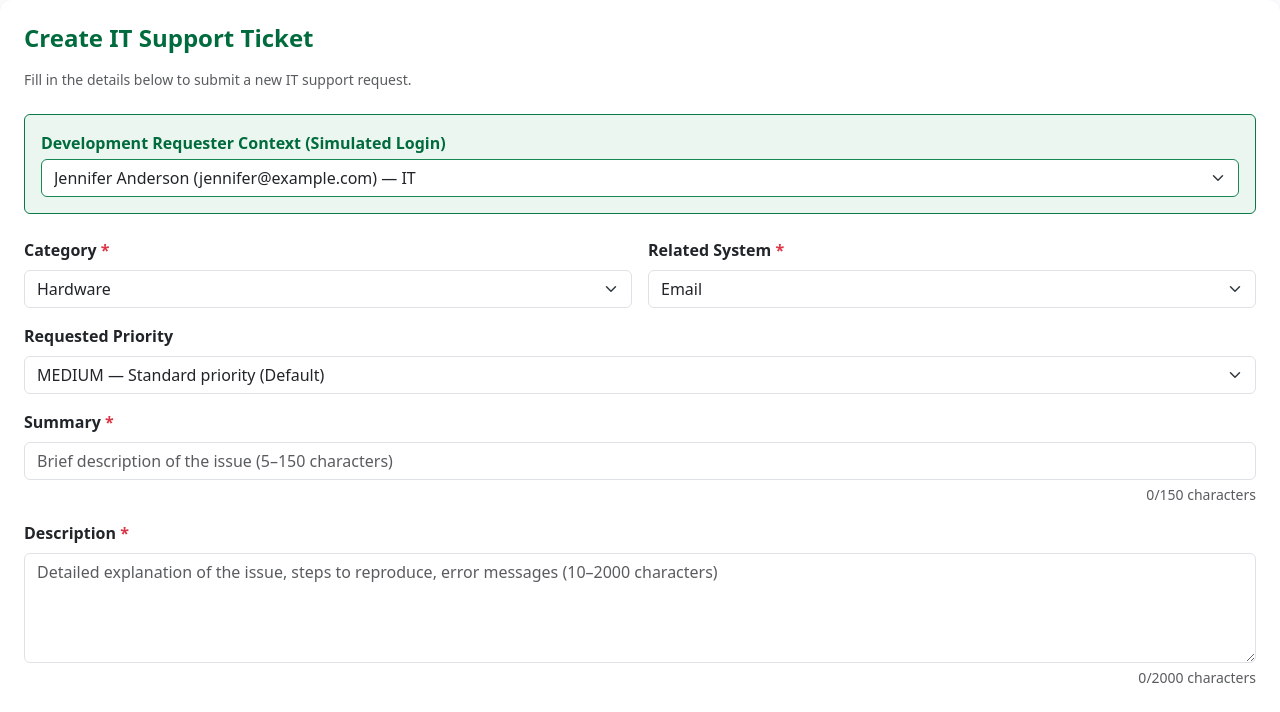
Test: CreateTicket Component › validates field length constraints before submitting
Expected: the heading "Create IT Support Ticket" is shown, [24,21,314,54]
In the field labelled "Summary *": (640,461) [24,442,1256,480], type "Abc"
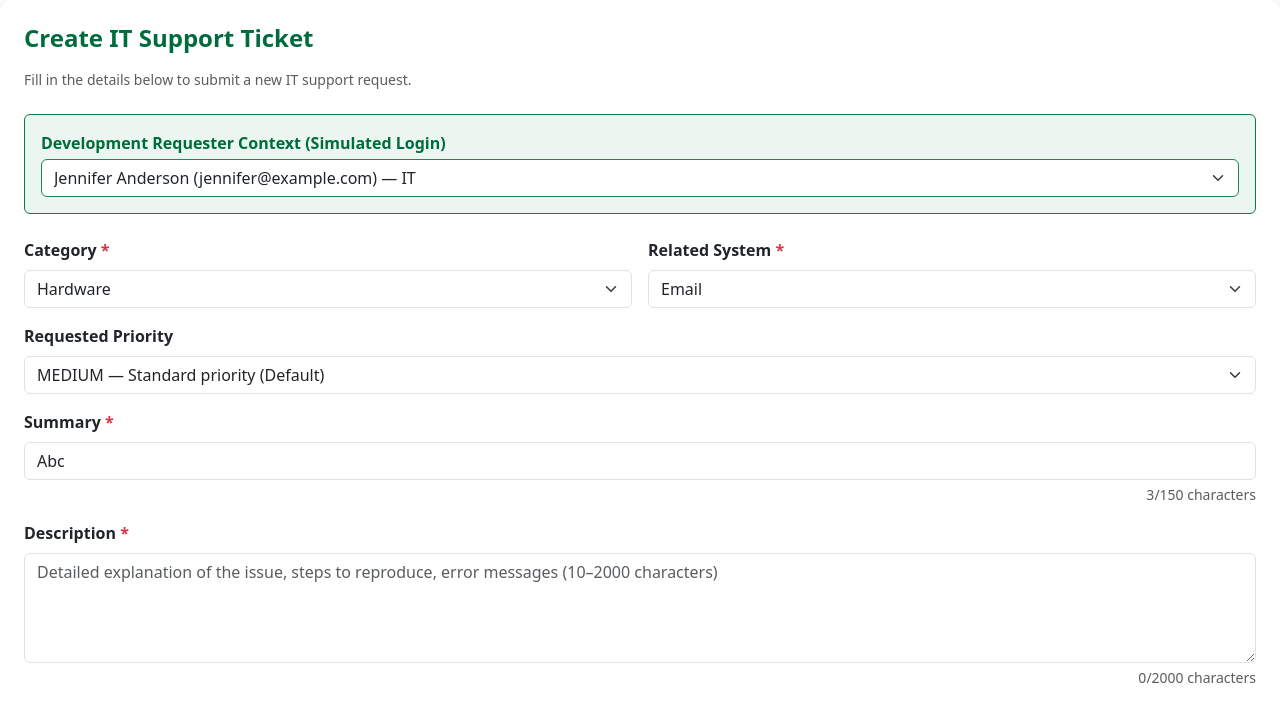
Replace the text in the text box labelled "Description *" with "Too short": (640,608) [24,553,1256,663]
(page scrolled)
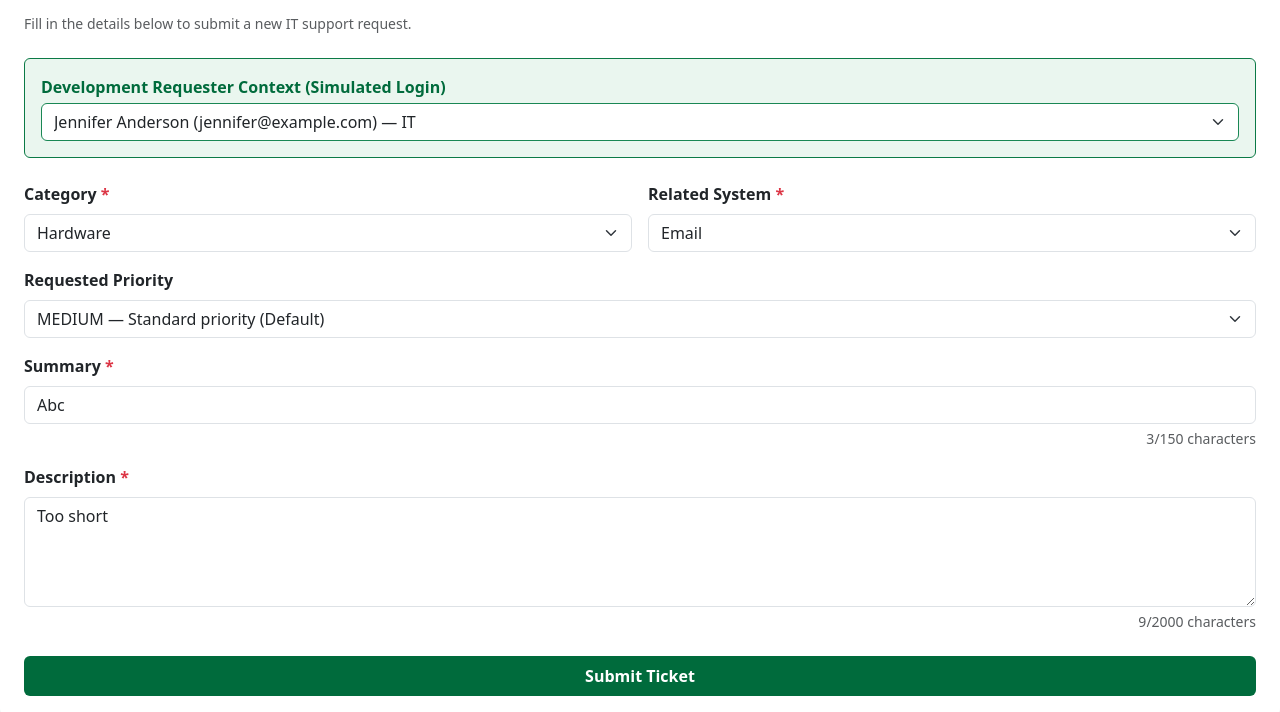
Click the button "Submit Ticket": (640,676) [24,656,1256,696]
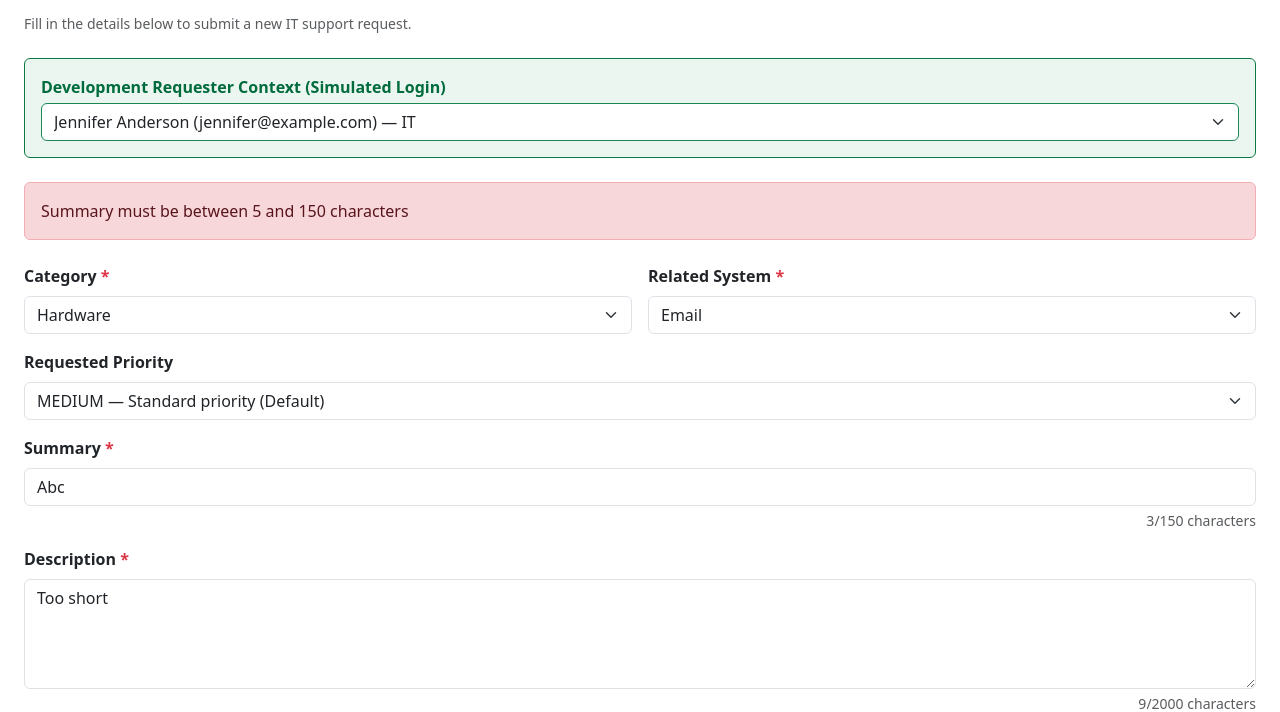
Expected: the text "Summary must be between 5 and 150 characters" is shown, [24,182,1256,240]
